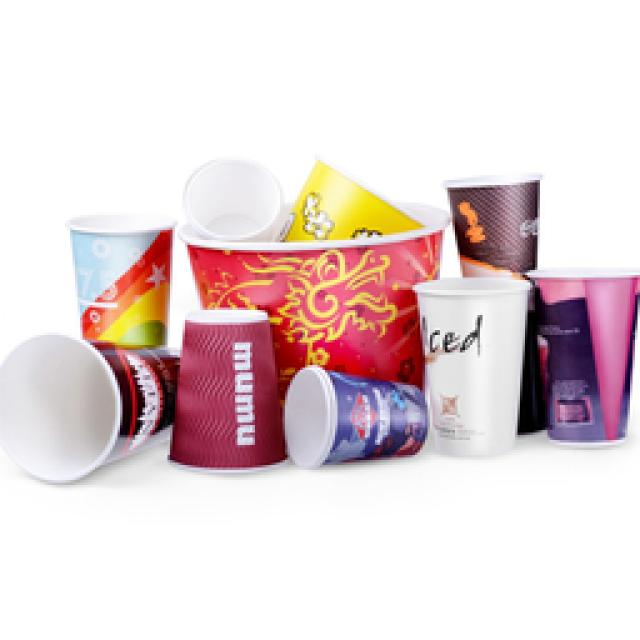paper_cups: (179, 204, 449, 384), (5, 335, 182, 486), (412, 276, 531, 458), (166, 307, 294, 475), (533, 265, 640, 449), (64, 212, 181, 351), (278, 367, 432, 468), (442, 168, 544, 279)
